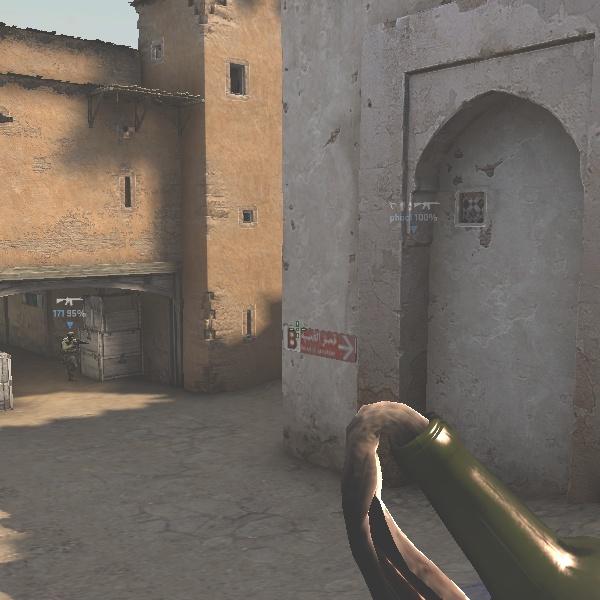ct_body: (60, 332, 84, 382)
ct_head: (67, 331, 75, 342)
